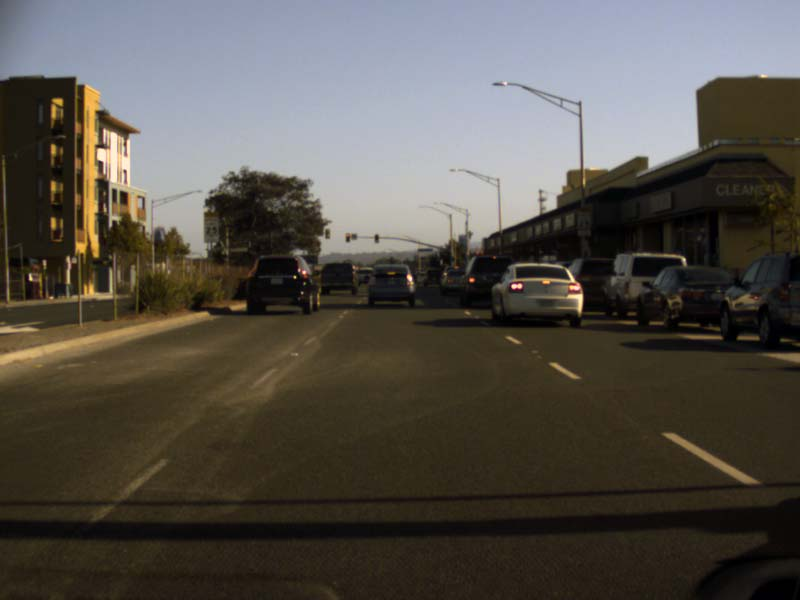Green: (373, 232, 379, 243)
Red: (345, 233, 349, 241)
